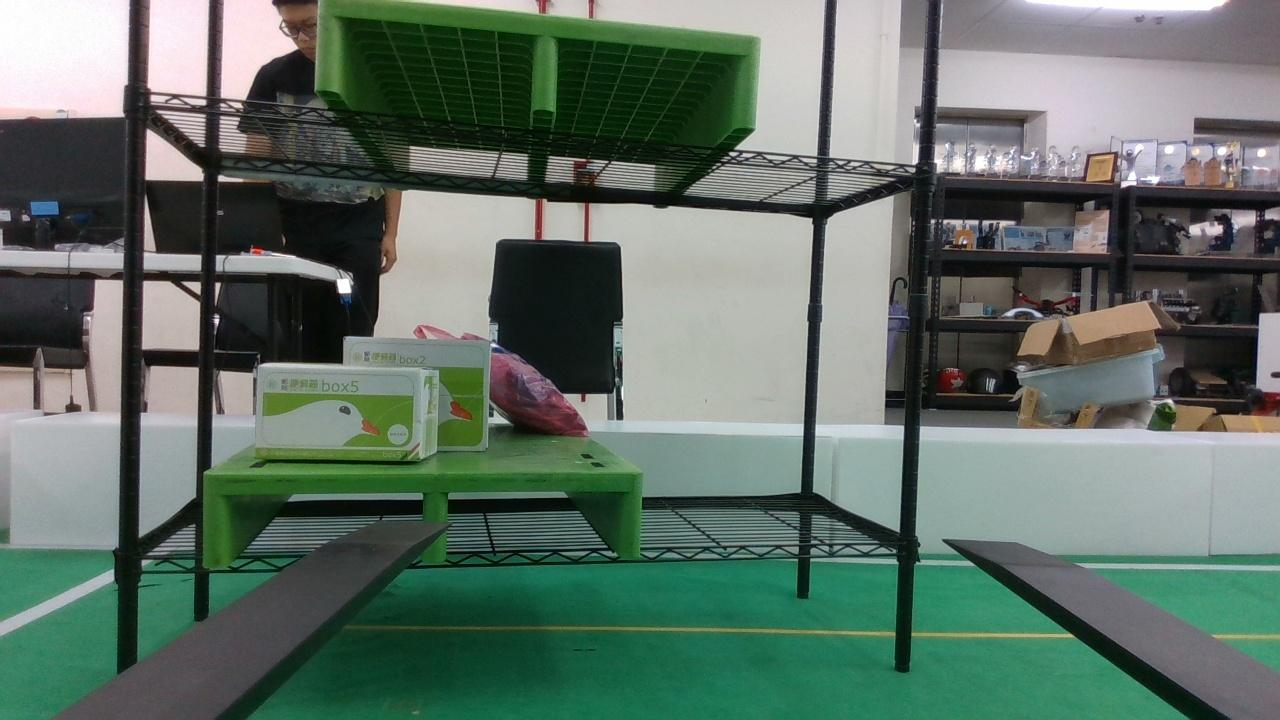Pallet: (314, 0, 763, 132), (200, 470, 643, 574)
